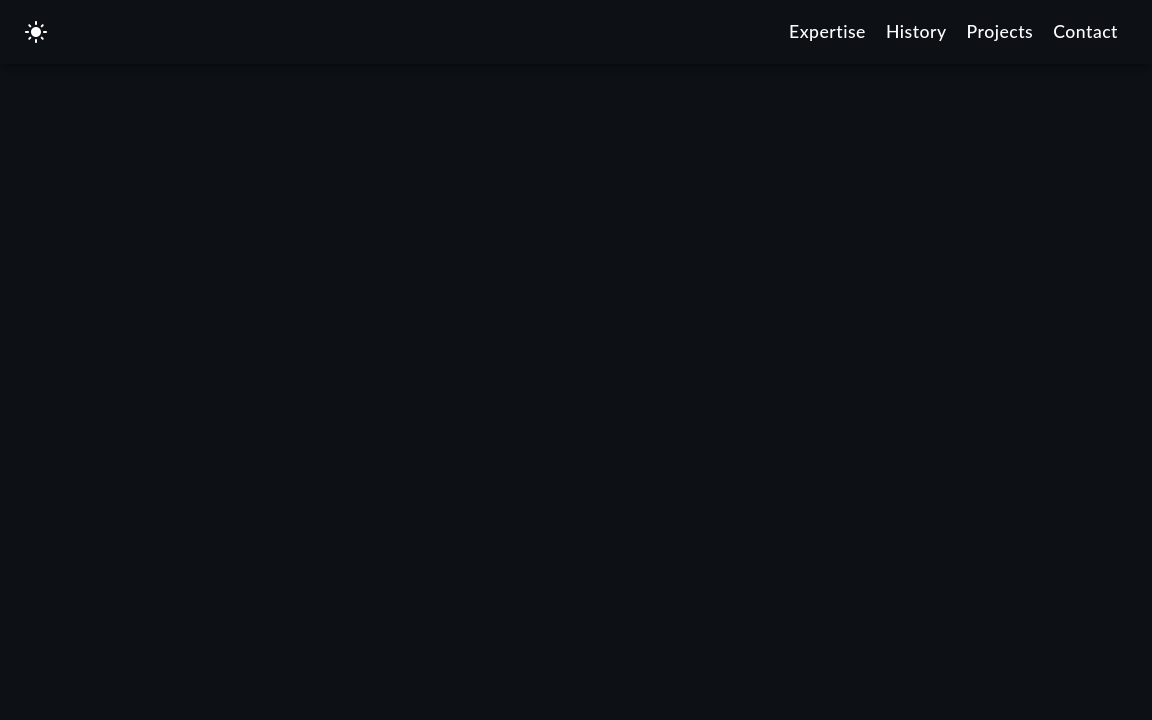
Test case: App › mode toggle switches between dark-mode and light-mode in both directions
Click the icon with test id "LightModeIcon" at [36, 32], box [24, 20, 48, 44]
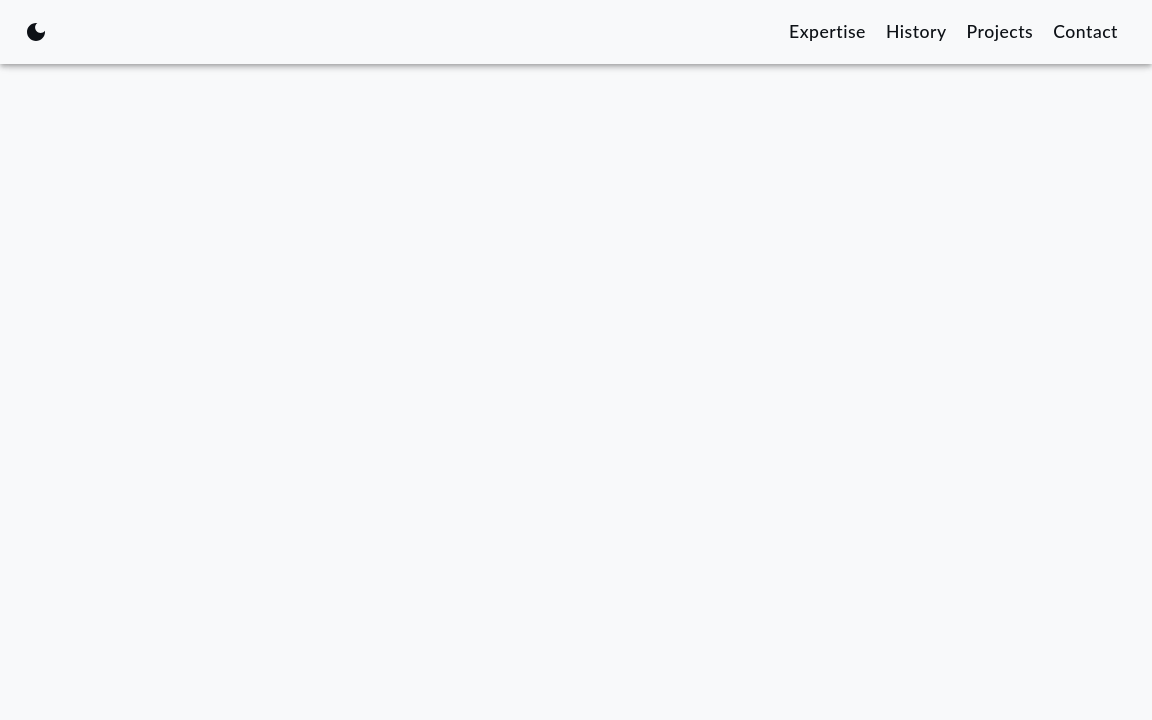
expect the icon with test id "LightModeIcon" is gone: met
Click the icon with test id "DarkModeIcon" at [36, 32], box [24, 20, 48, 44]
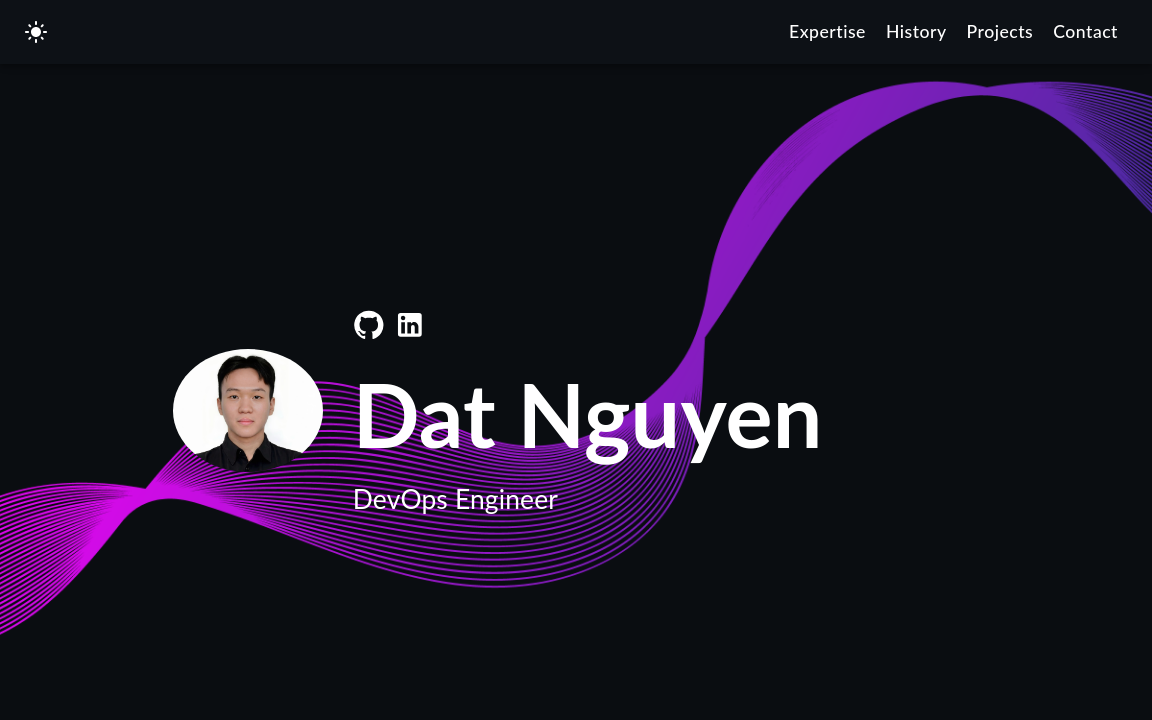
expect the icon with test id "LightModeIcon" is shown: met, box [24, 20, 48, 44]
